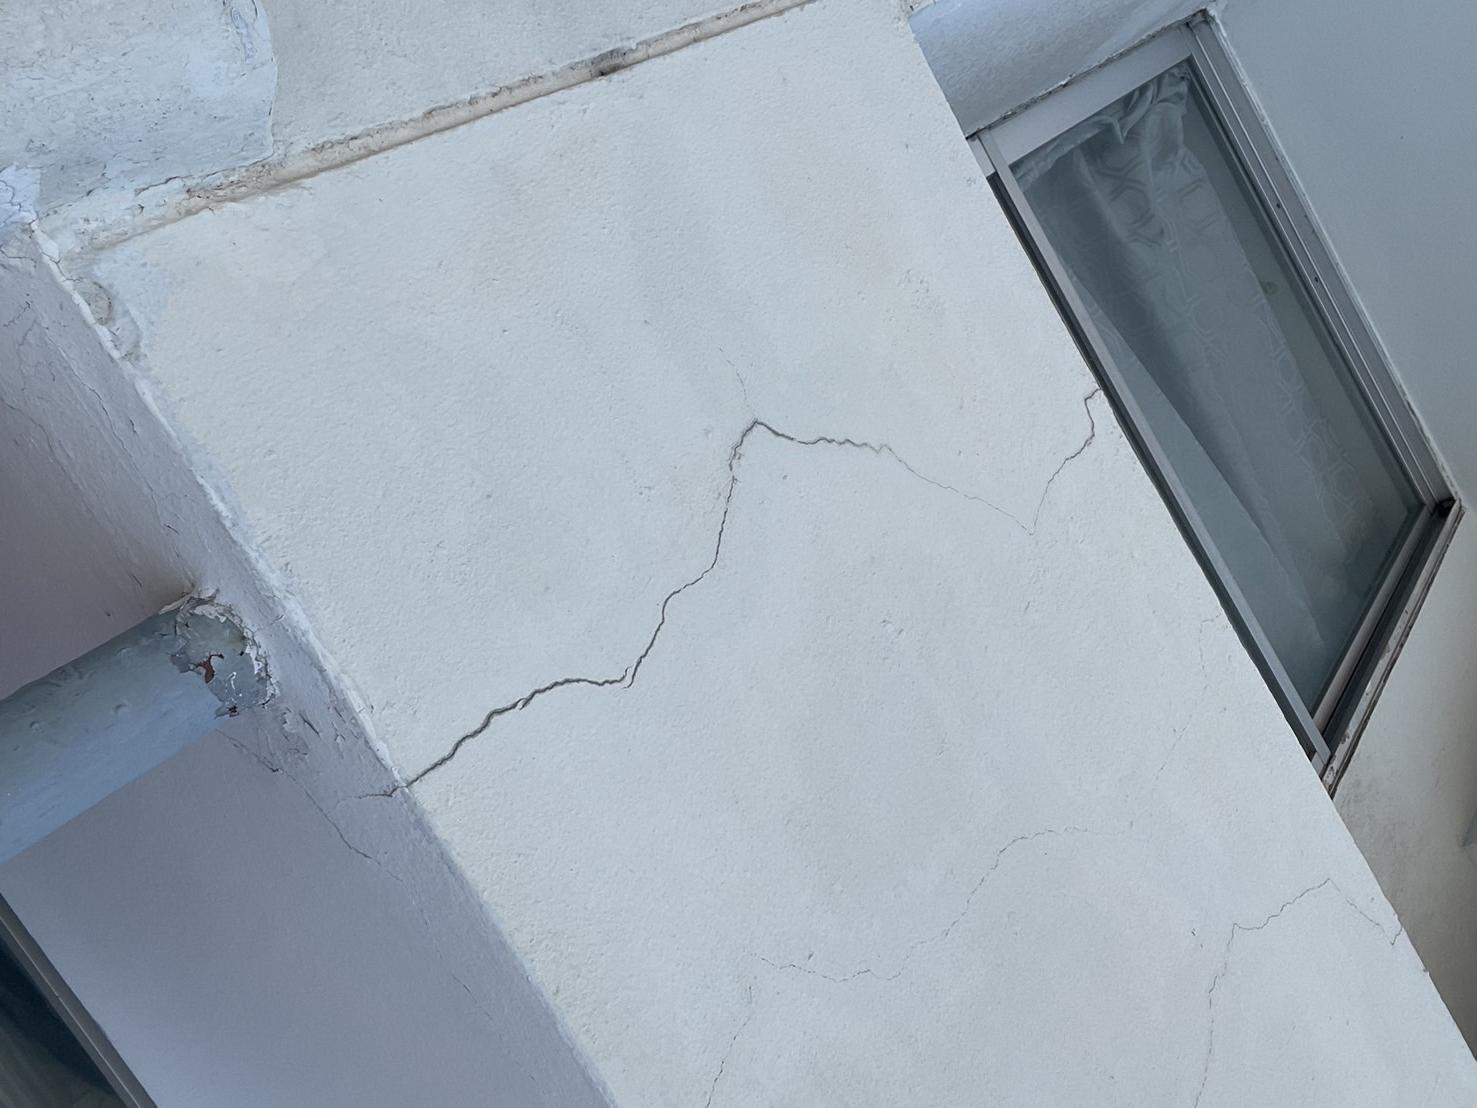Low: (392, 322, 1114, 800)
